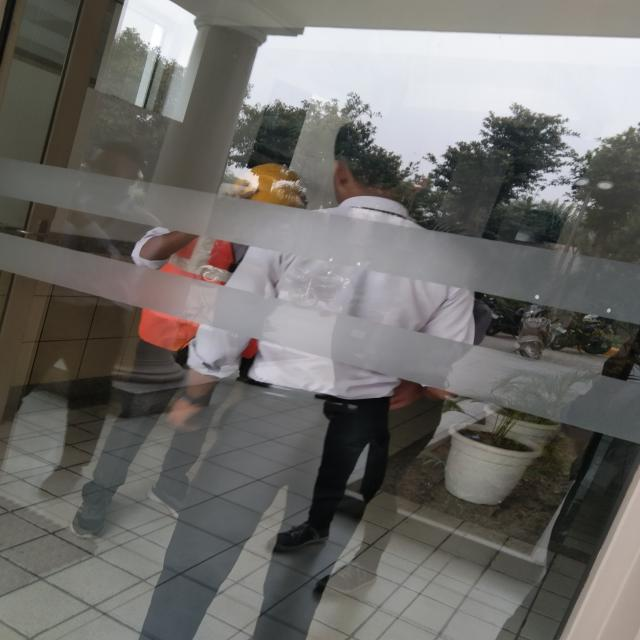safe: (72, 158, 294, 547)
unsafe: (200, 124, 436, 631)
